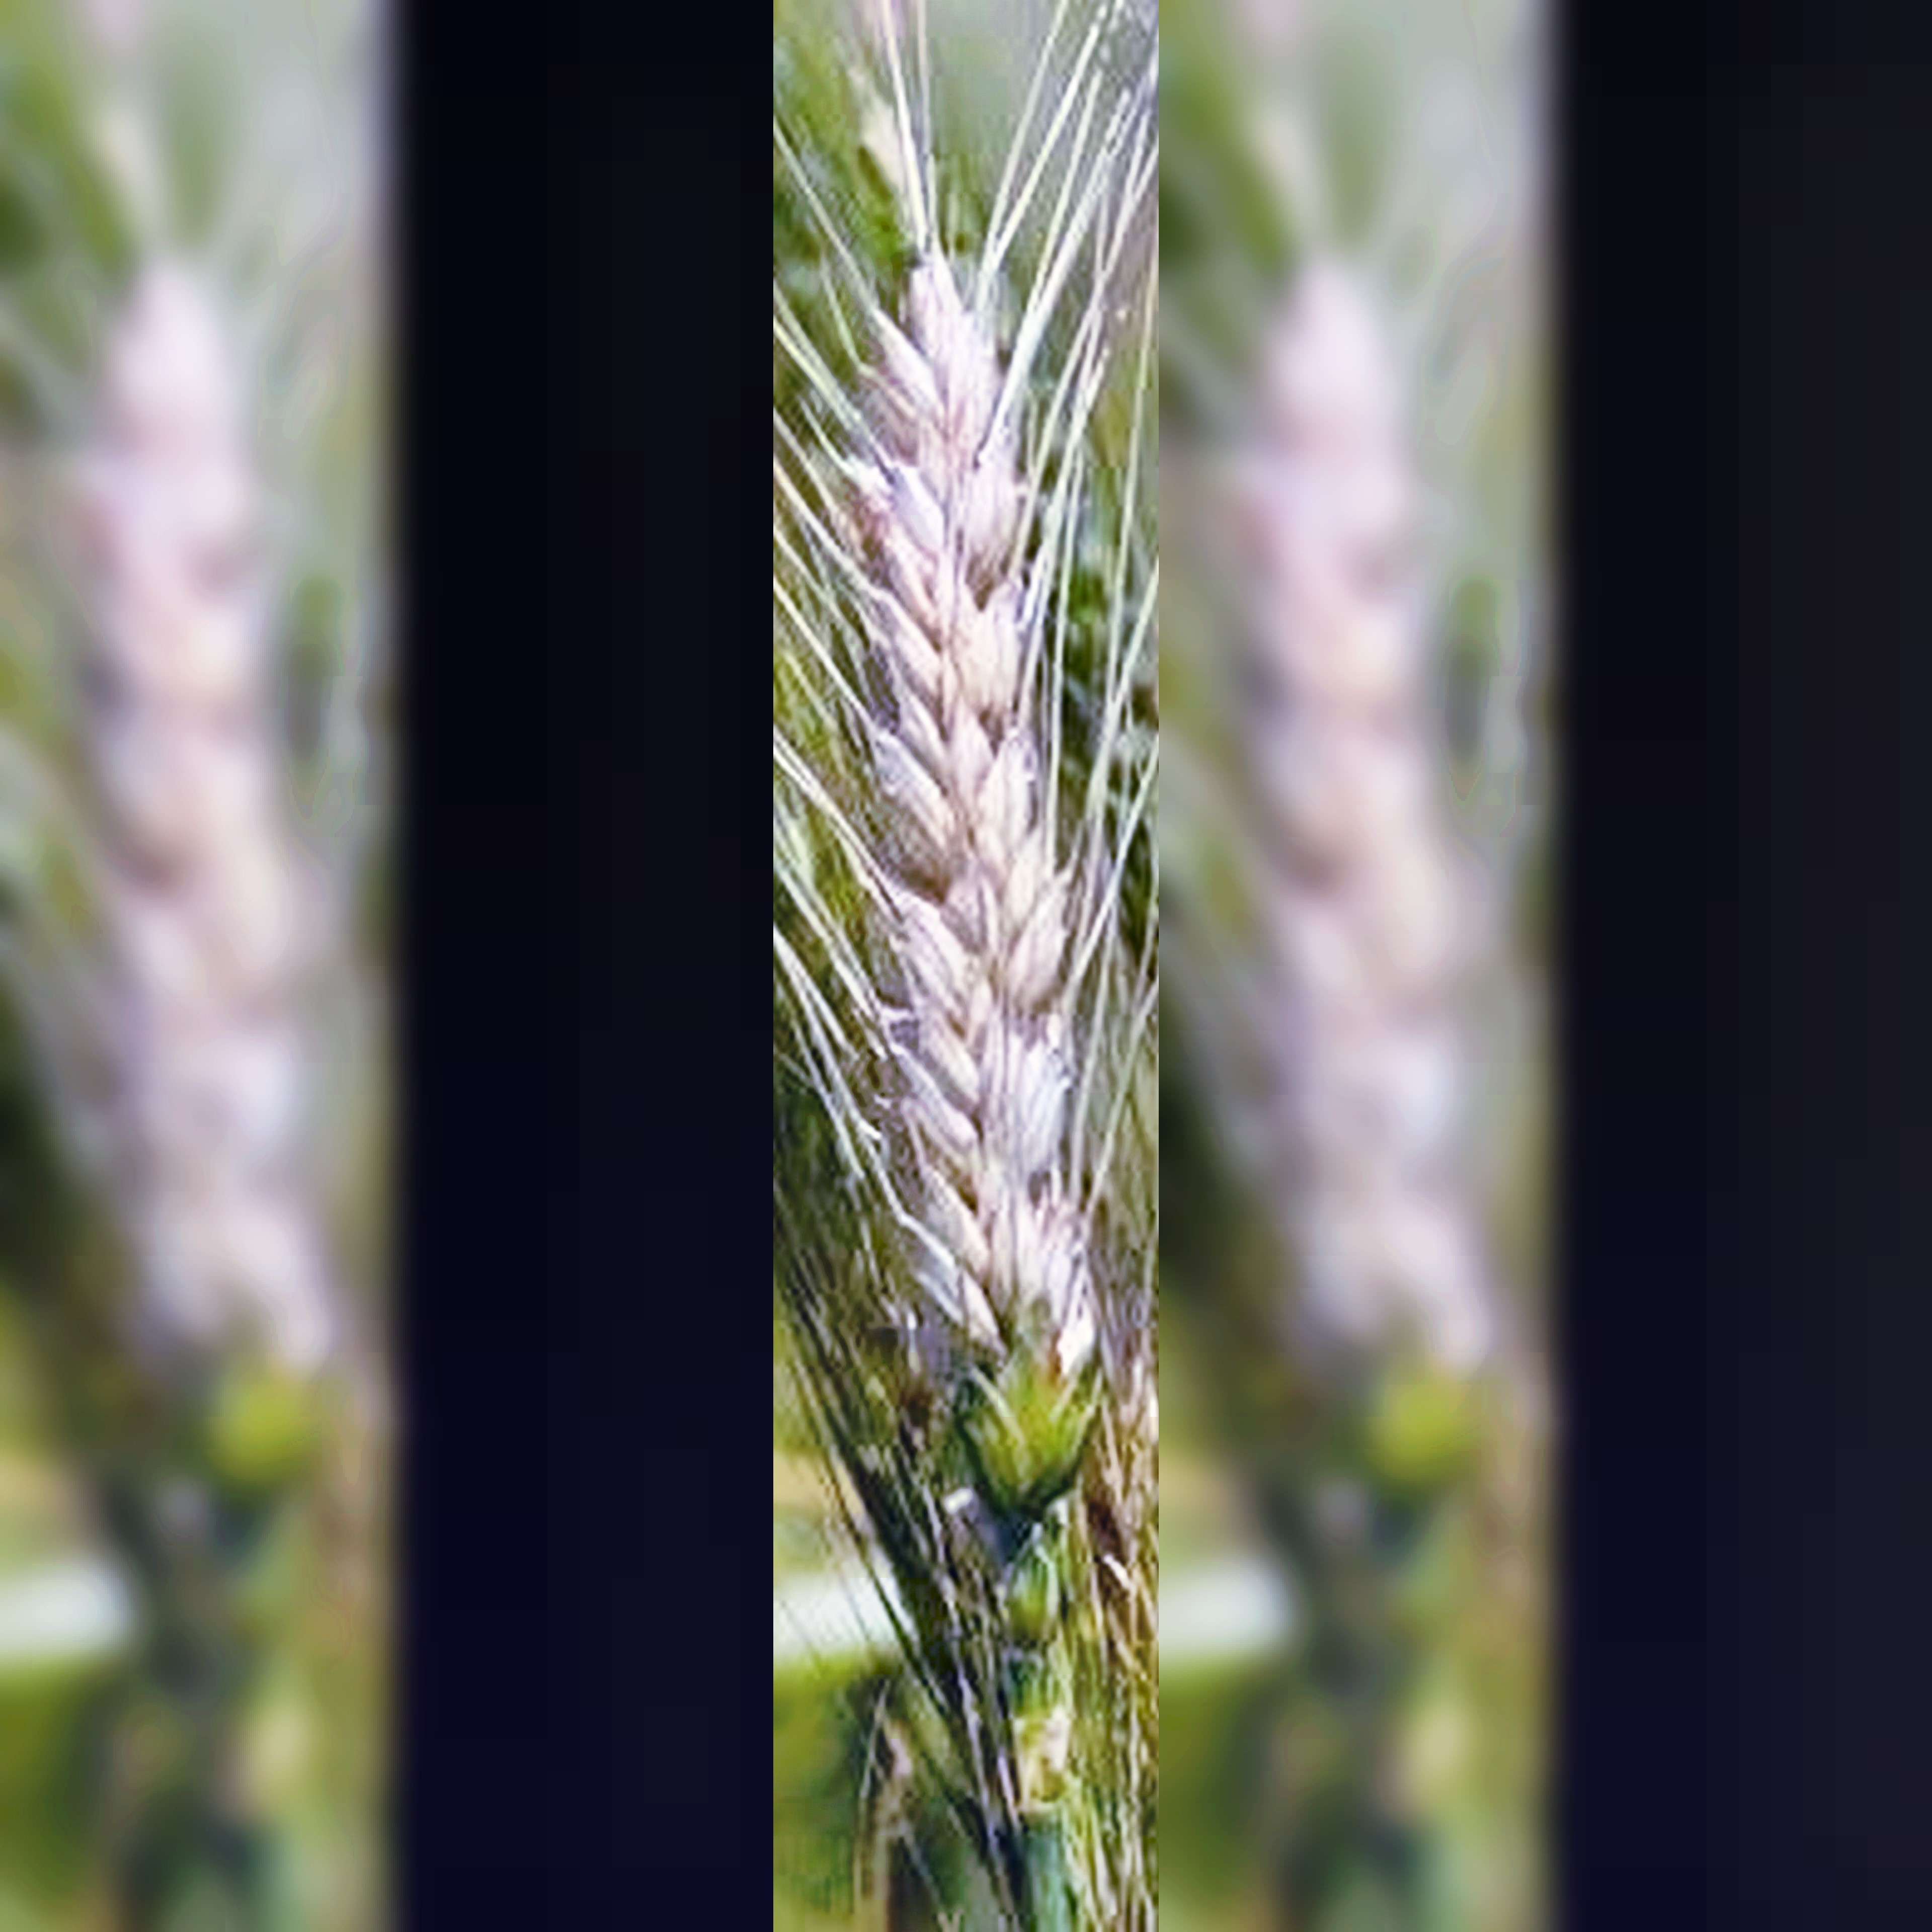Wheat scab: (780, 212, 1115, 1582)
